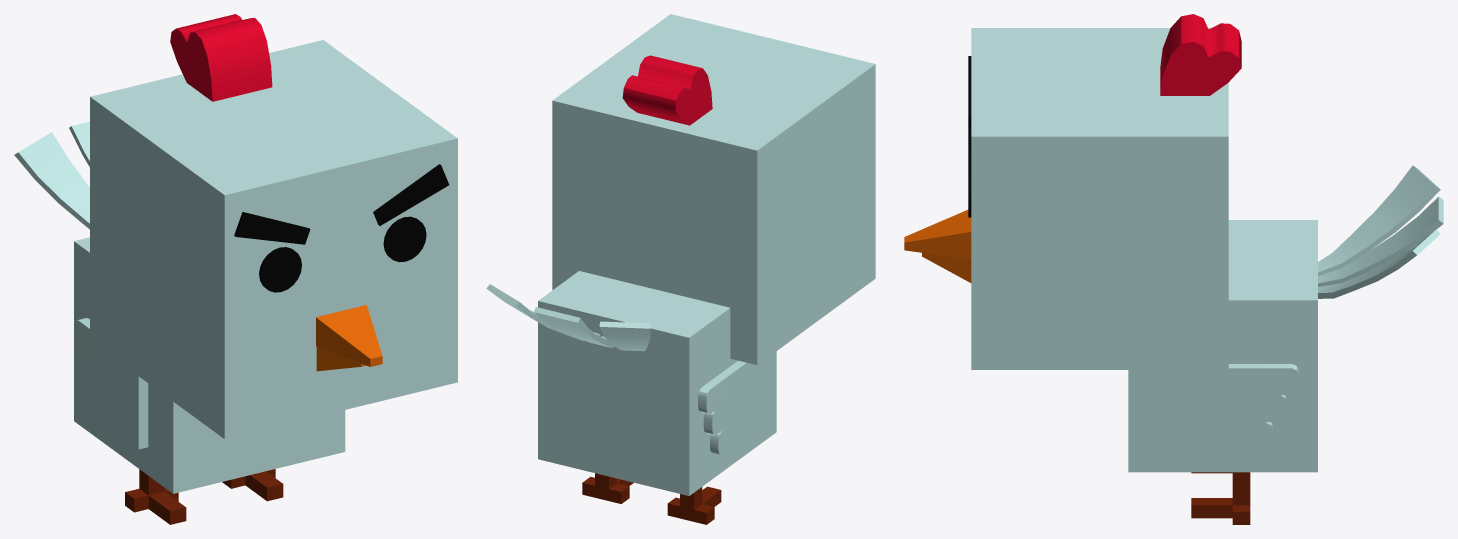
File: Lv02_Ggoggo.fbx
The picture shows the model from 3 angles, left to right: view 1: azimuth 30°, elevation 25°; view 2: azimuth 150°, elevation 25°; view 3: azimuth 270°, elevation 25°; orthographic projection. The views are drawn at different scales.
Visible parts, largest first — view 1: polySurface4, polySurface12, polySurface2, polySurface10, pCube14, polySurface13, polySurface6, polySurface9, polySurface5, polySurface8, polySurface1, polySurface11 (+2 smaller); view 2: polySurface4, polySurface12, polySurface10, polySurface2, polySurface6, pCube14, pCube12, polySurface11, pCube13; view 3: polySurface4, polySurface12, polySurface7, polySurface2, pCube14, pCube12, polySurface13, polySurface11, pCube13, polySurface3.
Boxes of the visible parts, x1,y1,x2,y2 form: polySurface4: (90,40,457,438); polySurface12: (74,237,345,493); polySurface2: (170,14,272,101); polySurface10: (74,318,148,449); pCube14: (14,132,89,229); polySurface13: (316,305,382,366); polySurface6: (125,469,186,524); polySurface9: (373,164,449,225); polySurface5: (234,212,310,244); polySurface8: (259,247,301,292); polySurface1: (383,216,426,262); polySurface11: (222,469,283,501); polySurface4: (552,14,875,365); polySurface12: (538,271,776,495); polySurface10: (698,360,763,455); polySurface2: (622,55,712,125); polySurface6: (667,486,721,524); pCube14: (599,321,650,351); pCube12: (534,307,614,347); polySurface11: (582,473,633,503); pCube13: (486,284,600,340); polySurface4: (971,28,1228,369); polySurface12: (1128,220,1317,472); polySurface7: (1176,364,1299,449); polySurface2: (1160,14,1241,95); pCube14: (1318,165,1440,276); pCube12: (1318,196,1443,286); polySurface13: (904,210,971,259); polySurface11: (1191,472,1250,524); pCube13: (1318,229,1440,298); polySurface3: (922,253,971,282).
Size of the model in its own units: 15.53 by 30.89 by 32.56.
